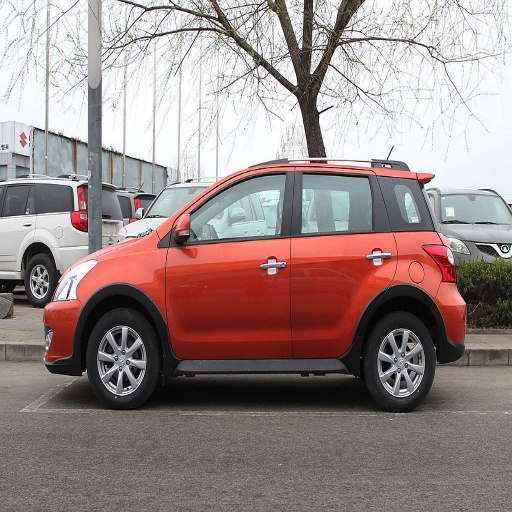back_left_door: (293, 166, 393, 353)
front_left_door: (166, 166, 293, 355)
